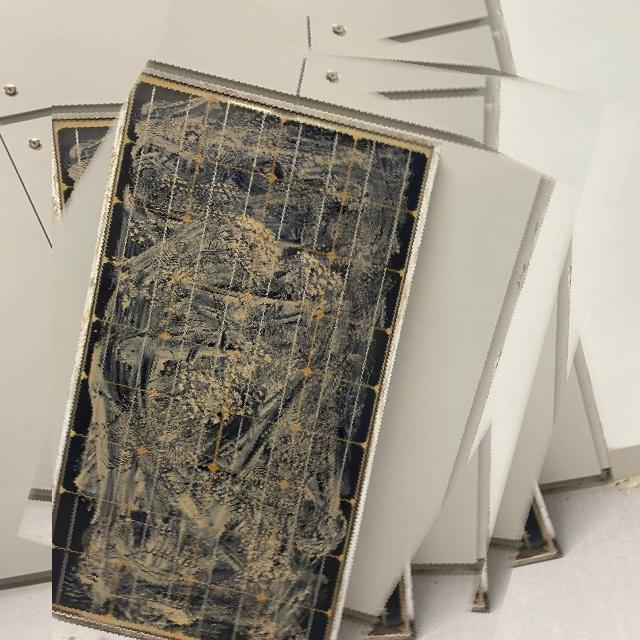Anomaly Solar Panel: (41, 63, 443, 640)
Surface Contaminant: (48, 68, 445, 639), (52, 116, 115, 213)
